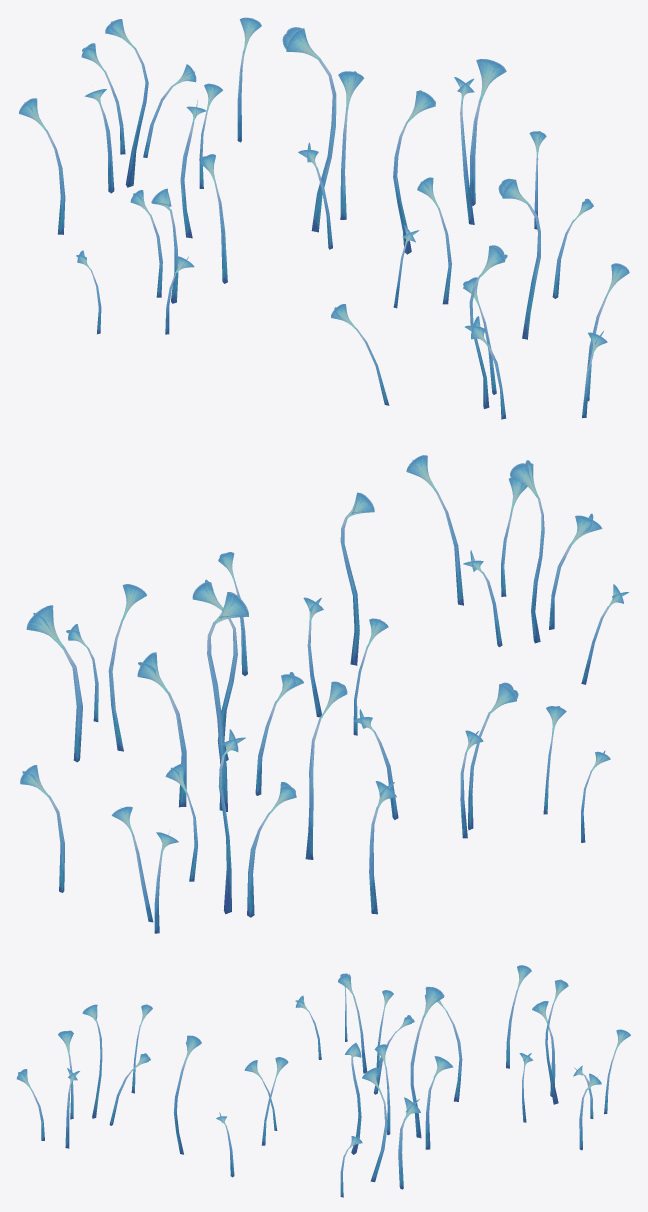
The model's file is Homeworld_Exterior_Dq_Plant_Grass_02_Lod0.fbx.
The picture shows the model from 3 angles, top to bottom: view 1: azimuth 30°, elevation 25°; view 2: azimuth 150°, elevation 25°; view 3: azimuth 270°, elevation 25°; orthographic projection. The views are drawn at different scales.
Visible parts, largest first — view 1: Area_Dq_Grass_Common_SmallRush_02_Lod0; view 2: Area_Dq_Grass_Common_SmallRush_02_Lod0; view 3: Area_Dq_Grass_Common_SmallRush_02_Lod0.
Boxes of the visible parts, left/top/right/bottom form: Area_Dq_Grass_Common_SmallRush_02_Lod0: left=19, top=17, right=629, bottom=419; Area_Dq_Grass_Common_SmallRush_02_Lod0: left=20, top=455, right=628, bottom=933; Area_Dq_Grass_Common_SmallRush_02_Lod0: left=16, top=965, right=630, bottom=1197.
Size of the model in its own units: 2.72 by 1.12 by 4.14.
